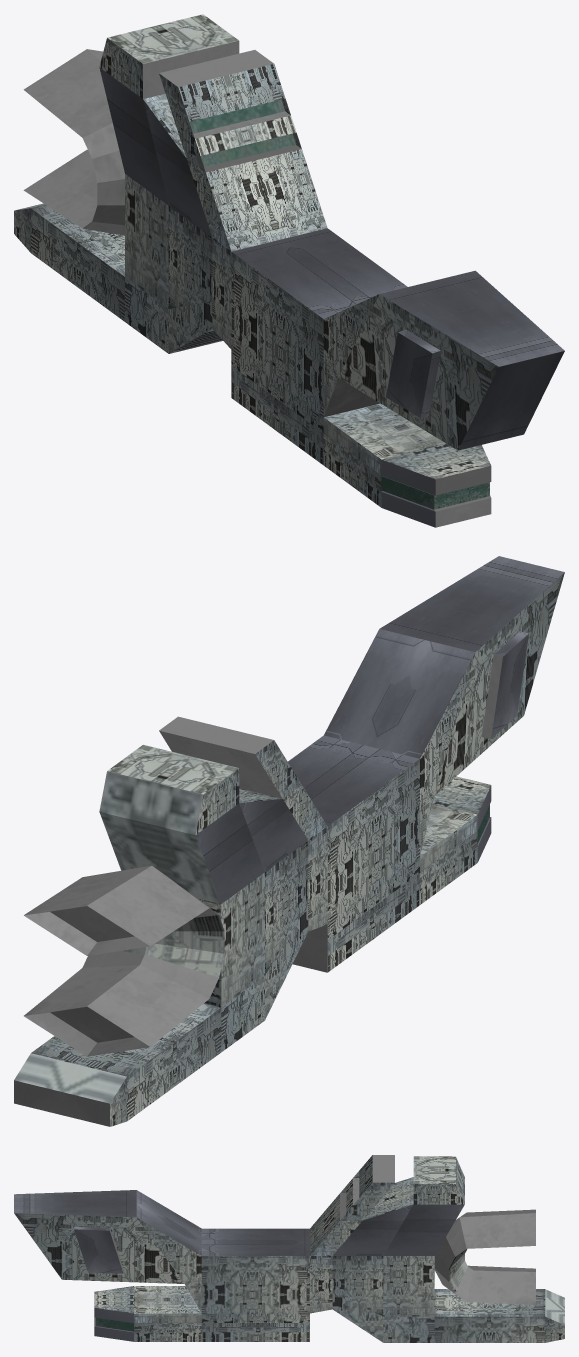
Rendered from gunboat.fbx.
3 views of the same model, one above another, from view 1: azimuth 30°, elevation 25°; view 2: azimuth 150°, elevation 25°; view 3: azimuth 270°, elevation 25° (orthographic). The views are drawn at different scales.
Visible parts, largest first — view 1: Hull, EnginePart; view 2: Hull, EnginePart; view 3: Hull, EnginePart.
Part boxes in pixels (<box>): Hull: <box>14,14,564,527</box>; EnginePart: <box>23,49,124,235</box>; Hull: <box>14,556,564,1126</box>; EnginePart: <box>24,865,224,1056</box>; Hull: <box>14,1155,564,1342</box>; EnginePart: <box>434,1209,535,1304</box>.
Bounding box in the file's own units: 264 × 544 × 1693.
